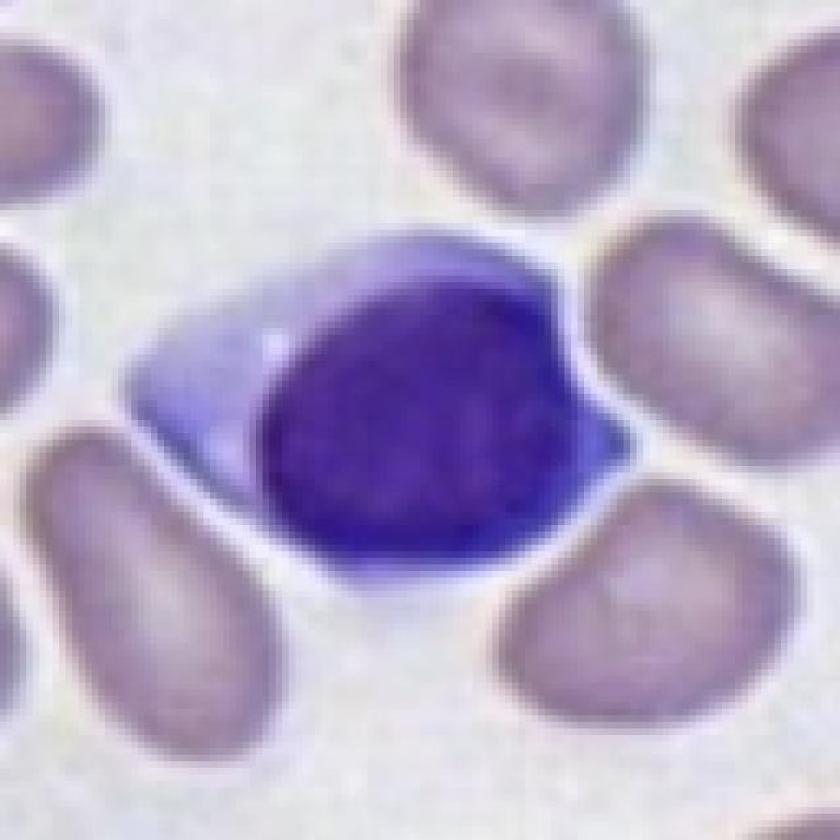lymphocyte: (112, 216, 637, 594)
